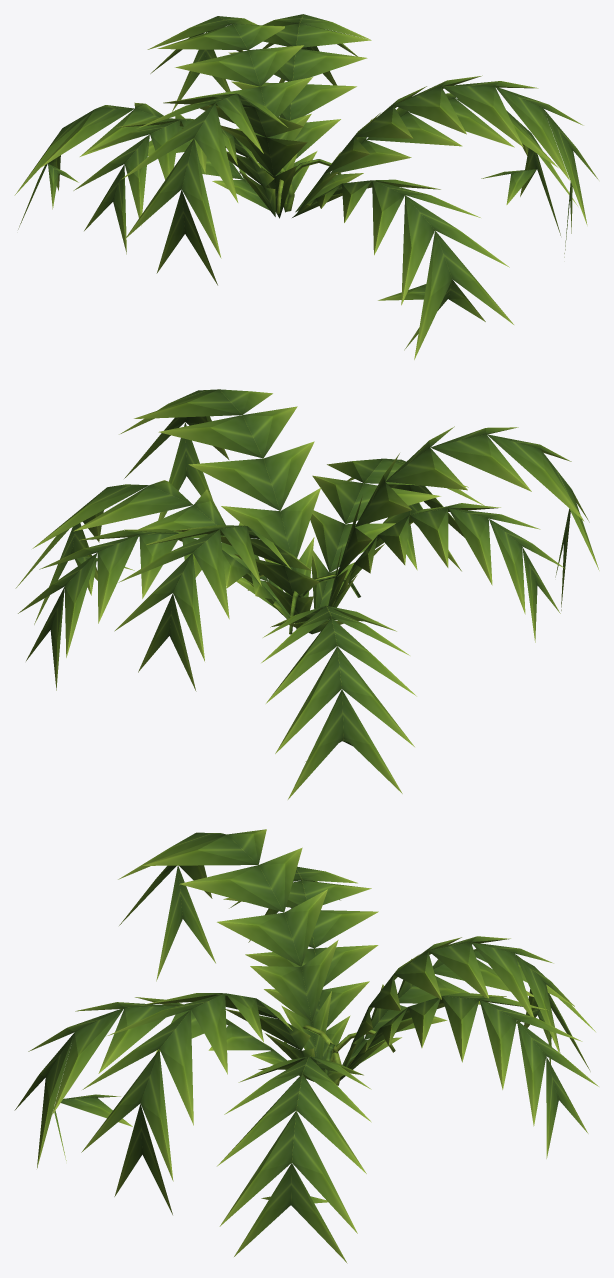
Rendered from fougeres_2.glb.
3 views of the same model, one above another, from view 1: azimuth 30°, elevation 25°; view 2: azimuth 150°, elevation 25°; view 3: azimuth 270°, elevation 25° (orthographic). The views are drawn at different scales.
Parts seen in each view (by area): view 1: fougeres_2; view 2: fougeres_2; view 3: fougeres_2.
Boxes of the visible parts, left/top/right/bottom form: fougeres_2: left=14, top=14, right=598, bottom=359; fougeres_2: left=15, top=389, right=599, bottom=799; fougeres_2: left=14, top=829, right=598, bottom=1263.
Bounding box in the file's own units: 1.45 × 0.6586 × 1.46.
1 material, 1 textured.
